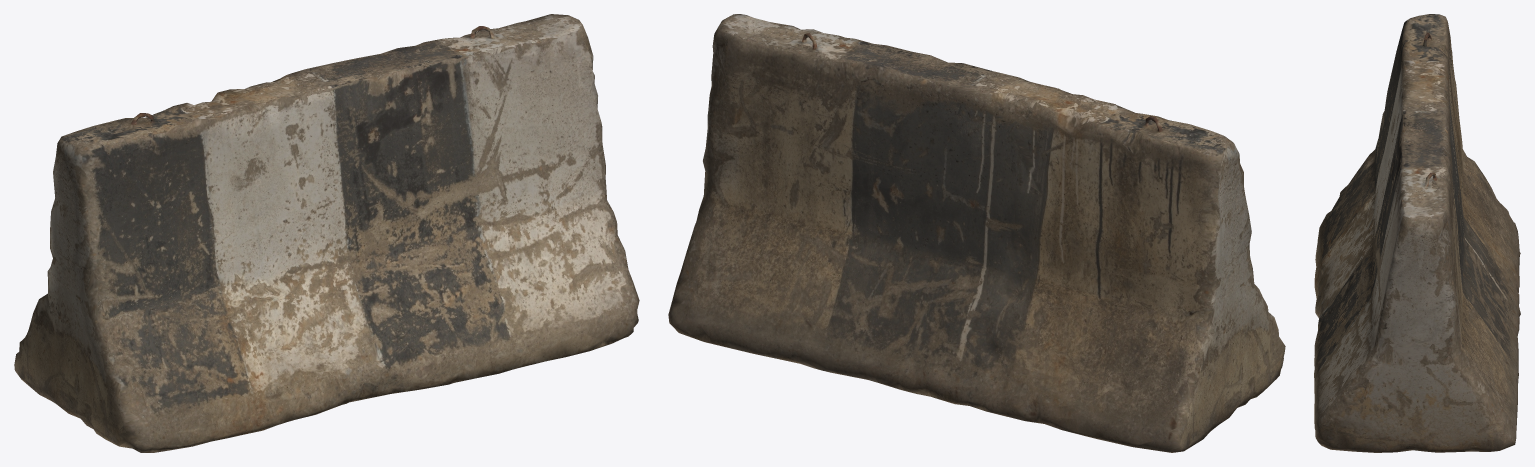
Rendered from concrete_road_barrier_1k.fbx.
The picture shows the model from 3 angles, left to right: view 1: azimuth 30°, elevation 25°; view 2: azimuth 150°, elevation 25°; view 3: azimuth 270°, elevation 25°; orthographic projection. The views are drawn at different scales.
Parts seen in each view (by area): view 1: concrete_road_barrier_LOD0; view 2: concrete_road_barrier_LOD0; view 3: concrete_road_barrier_LOD0.
Boxes of the visible parts, x1,y1,x2,y2 form: concrete_road_barrier_LOD0: [14, 14, 639, 452]; concrete_road_barrier_LOD0: [668, 14, 1285, 452]; concrete_road_barrier_LOD0: [1314, 14, 1520, 452].
Size of what is drawn, in the model's own units: 154 by 83.26 by 63.52.
1 material, 1 textured.
